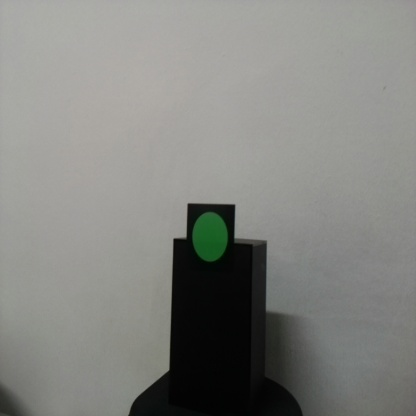id_5: (188, 204, 234, 279)
